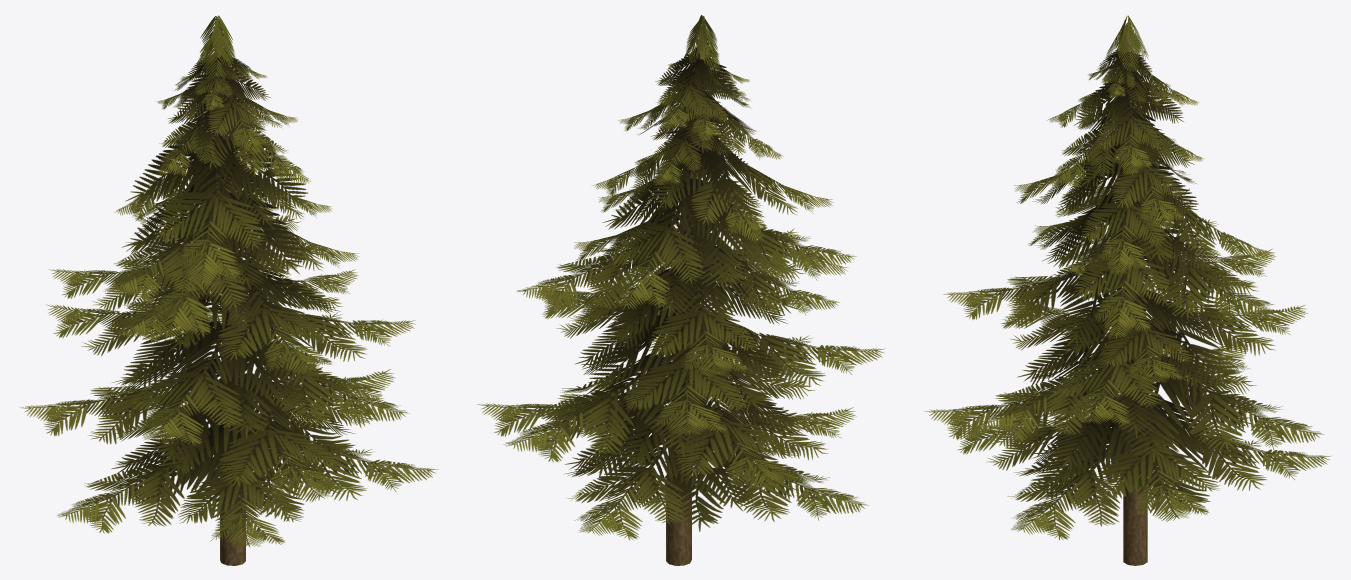
Rendered from pine.glb.
3 views of the same model, side by side, from view 1: azimuth 30°, elevation 25°; view 2: azimuth 150°, elevation 25°; view 3: azimuth 270°, elevation 25° (orthographic). The views are drawn at different scales.
Parts seen in each view (by area): view 1: Leaves/001_Leavs_0, Trank.001_Trank_0; view 2: Leaves/001_Leavs_0, Trank.001_Trank_0; view 3: Leaves/001_Leavs_0, Trank.001_Trank_0.
Boxes of the visible parts, x1,y1,x2,y2 form: Leaves/001_Leavs_0: [19, 15, 438, 548]; Trank.001_Trank_0: [214, 29, 245, 565]; Leaves/001_Leavs_0: [477, 15, 885, 540]; Trank.001_Trank_0: [666, 28, 705, 565]; Leaves/001_Leavs_0: [924, 15, 1331, 540]; Trank.001_Trank_0: [1121, 28, 1147, 565].
Size of the model in its own units: 217 by 308 by 217.
2 materials, 2 textured.
